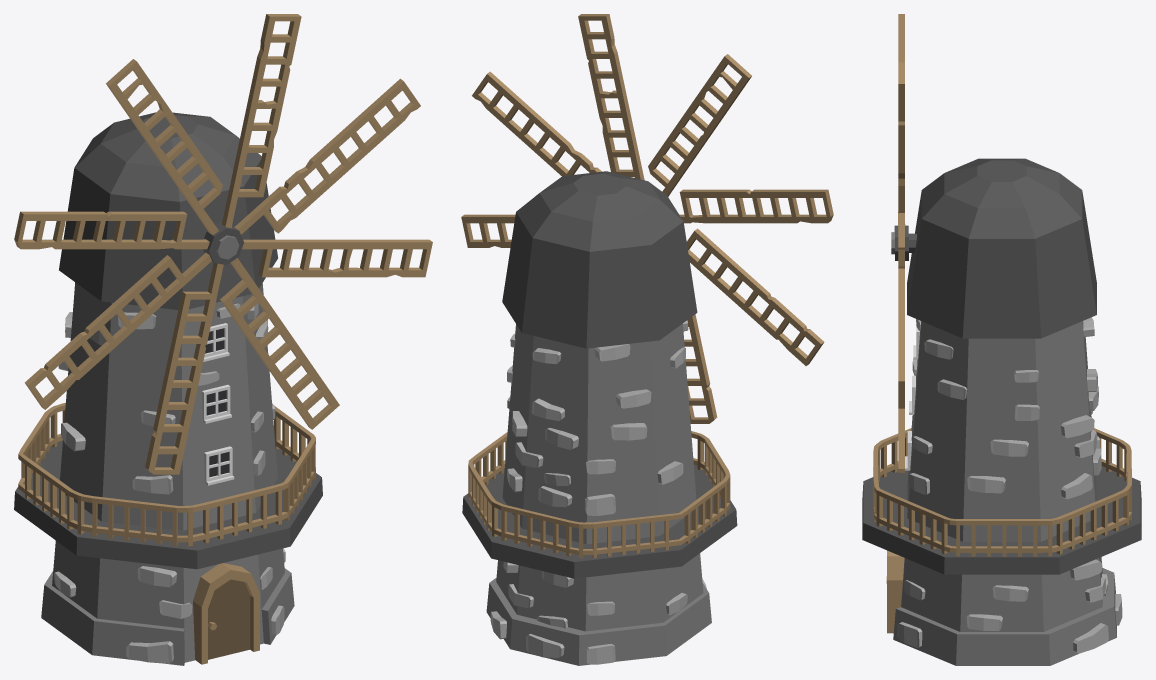
The model's file is towerwindmill.glb.
3 views of the same model, side by side, from view 1: azimuth 30°, elevation 25°; view 2: azimuth 150°, elevation 25°; view 3: azimuth 270°, elevation 25° (orthographic). The views are drawn at different scales.
Parts seen in each view (by area): view 1: TowerWindmill, TowerWindmill_Blades; view 2: TowerWindmill, TowerWindmill_Blades; view 3: TowerWindmill, TowerWindmill_Blades.
Boxes of the visible parts, <box> form: TowerWindmill: <box>14,112,322,665</box>; TowerWindmill_Blades: <box>14,14,432,474</box>; TowerWindmill: <box>462,171,737,665</box>; TowerWindmill_Blades: <box>461,14,833,423</box>; TowerWindmill: <box>862,158,1141,665</box>; TowerWindmill_Blades: <box>898,14,905,472</box>.
Bounding box in the file's own units: 7.92 × 11.41 × 4.99.
